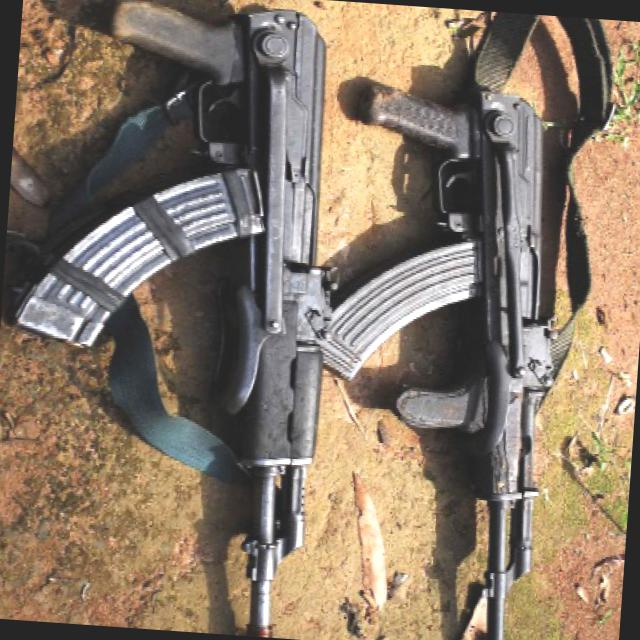long weapon: (0, 0, 348, 638), (303, 37, 577, 639)
